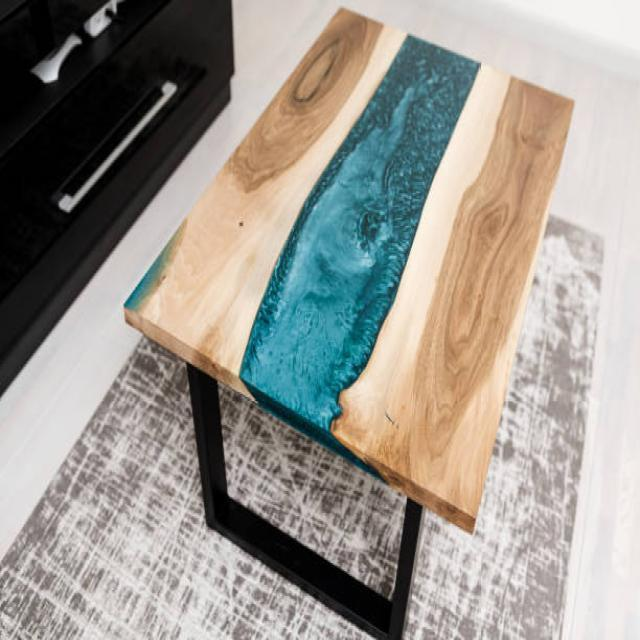table: (121, 4, 575, 638)
